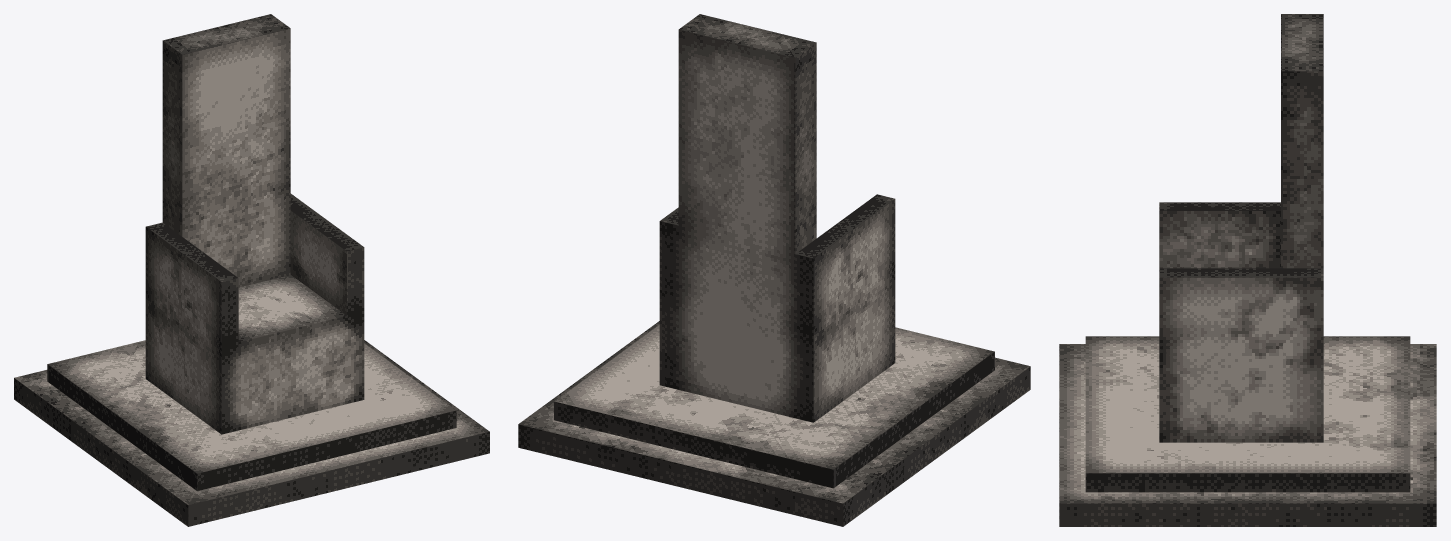
Rendered from throne.glb.
The picture shows the model from 3 angles, left to right: view 1: azimuth 30°, elevation 25°; view 2: azimuth 150°, elevation 25°; view 3: azimuth 270°, elevation 25°; orthographic projection. The views are drawn at different scales.
Visible parts, largest first — view 1: throne-col; view 2: throne-col; view 3: throne-col.
Boxes of the visible parts, x1,y1,x2,y2 form: throne-col: (14,14,489,526); throne-col: (518,14,1030,526); throne-col: (1059,14,1436,526).
Size of the model in its own units: 3.68 by 4.36 by 3.68.
1 material, 1 textured.
